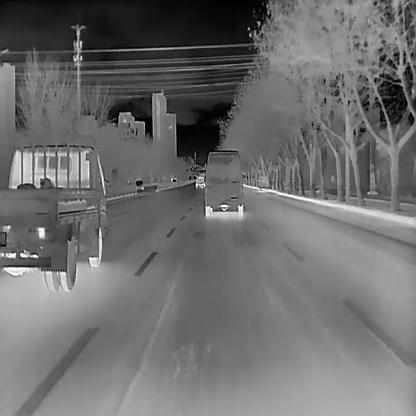car: (0, 136, 118, 291), (204, 149, 243, 215), (258, 175, 268, 188), (194, 174, 204, 186), (135, 179, 143, 190)
